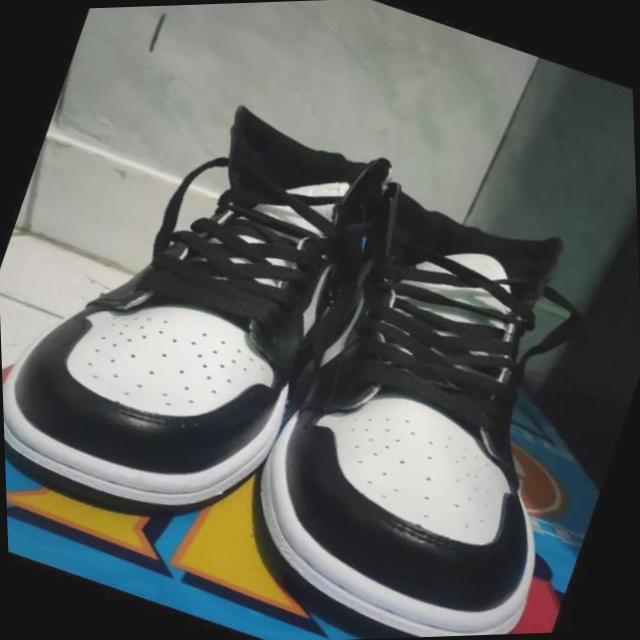nike_fake_jordan: (191, 149, 640, 640), (0, 43, 411, 570)
